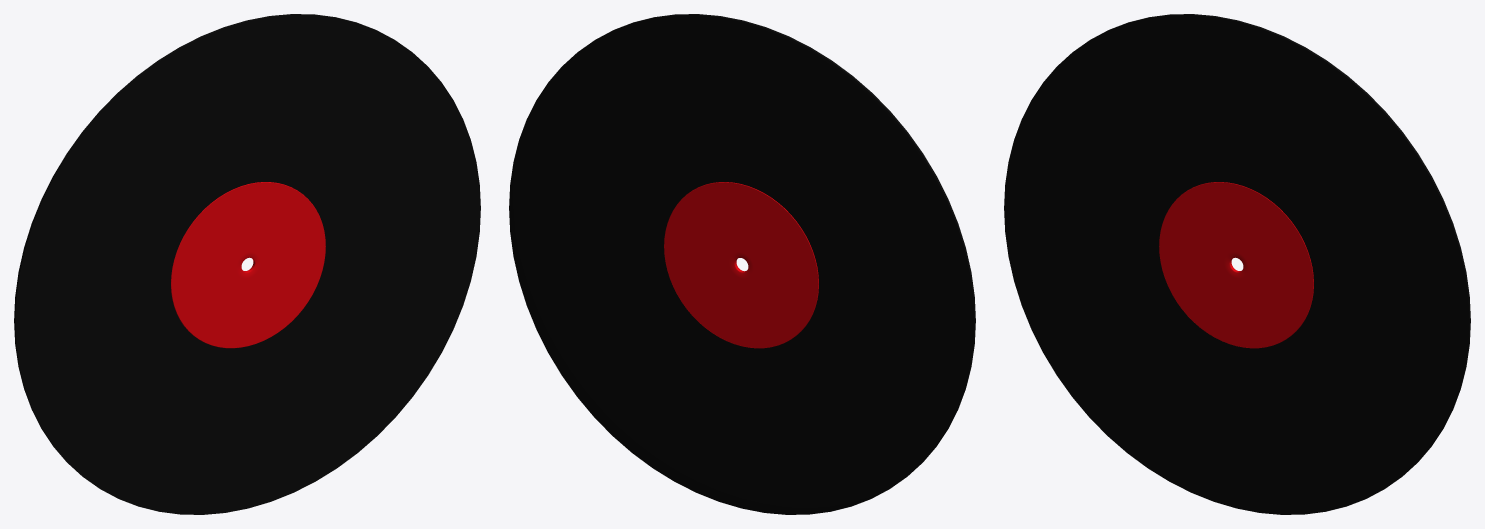
File: vinyl_record.glb
The picture shows the model from 3 angles, left to right: view 1: azimuth 30°, elevation 25°; view 2: azimuth 150°, elevation 25°; view 3: azimuth 330°, elevation 25°; orthographic projection.
Parts seen in each view (by area): view 1: tracks, label; view 2: tracks, label; view 3: tracks, label.
Part boxes in pixels (x1,y1,x2,y2): tracks: (14, 14, 480, 514); label: (171, 182, 325, 348); tracks: (509, 14, 975, 514); label: (664, 182, 818, 348); tracks: (1004, 14, 1470, 514); label: (1159, 182, 1313, 348).
Bounding box in the file's own units: 0.3048 × 0.3048 × 0.0025.
